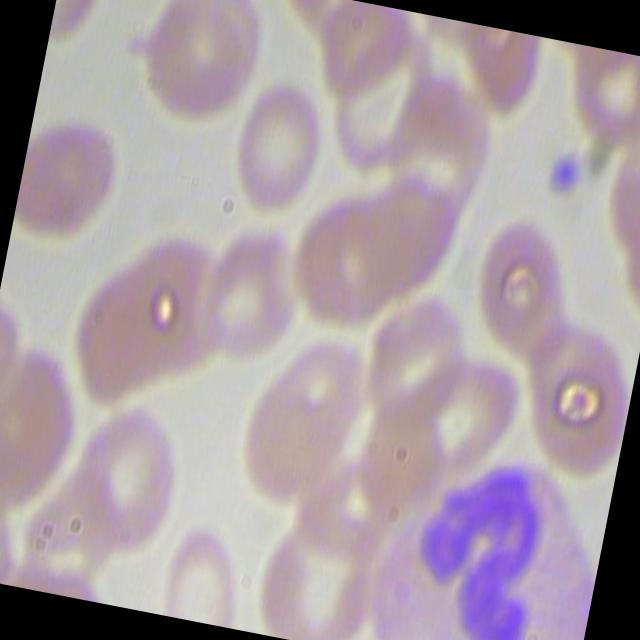Platelets: (538, 144, 586, 204)
RBC: (54, 386, 206, 558), (496, 302, 640, 483), (114, 0, 276, 143), (368, 72, 506, 235), (184, 204, 310, 374), (244, 496, 391, 640), (356, 278, 482, 430), (464, 209, 588, 360), (218, 72, 334, 226), (11, 97, 127, 250), (146, 512, 262, 628)
WBC: (360, 427, 615, 640)
